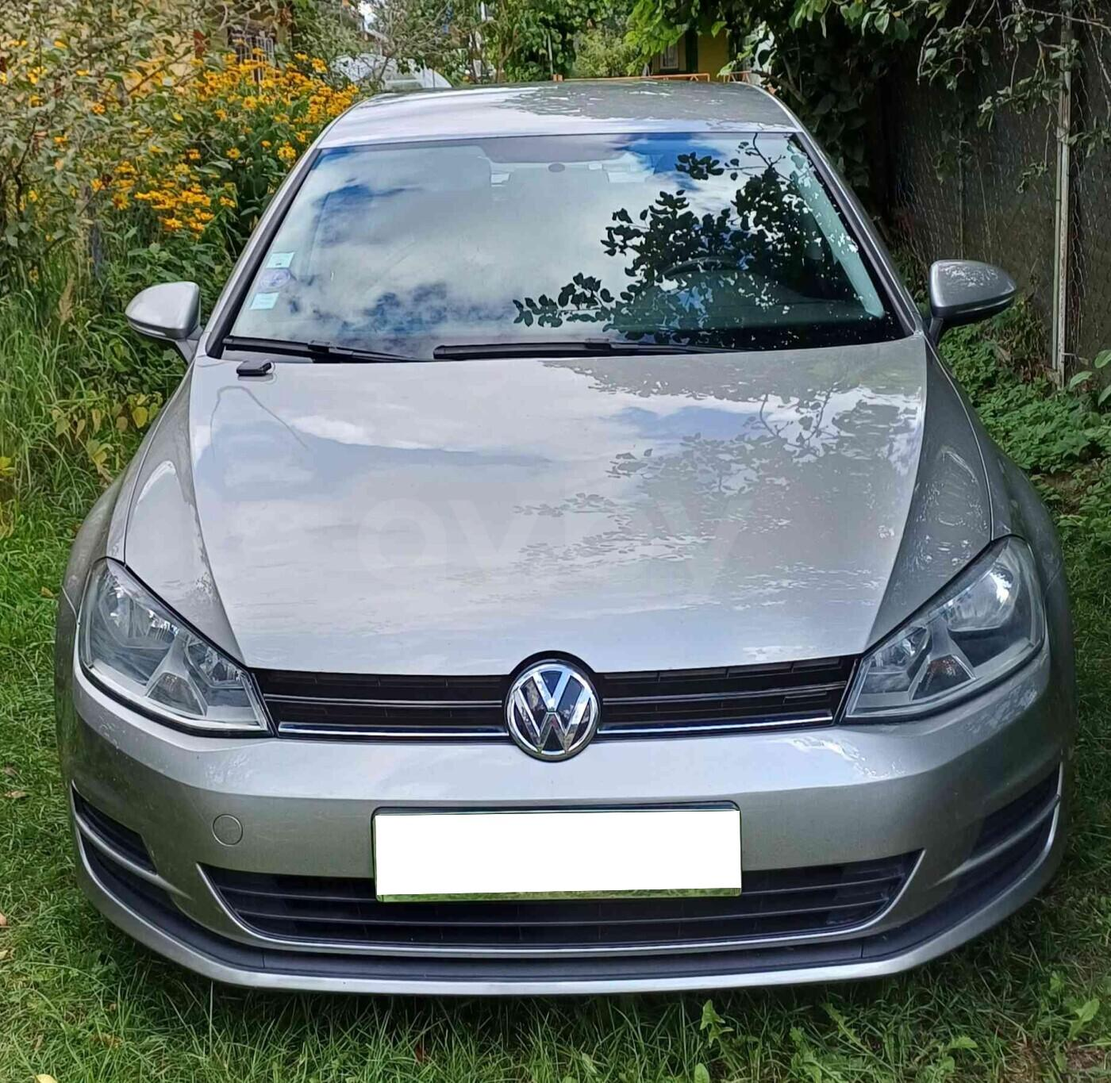Golf_2012-2017: (48, 78, 1074, 1027)
